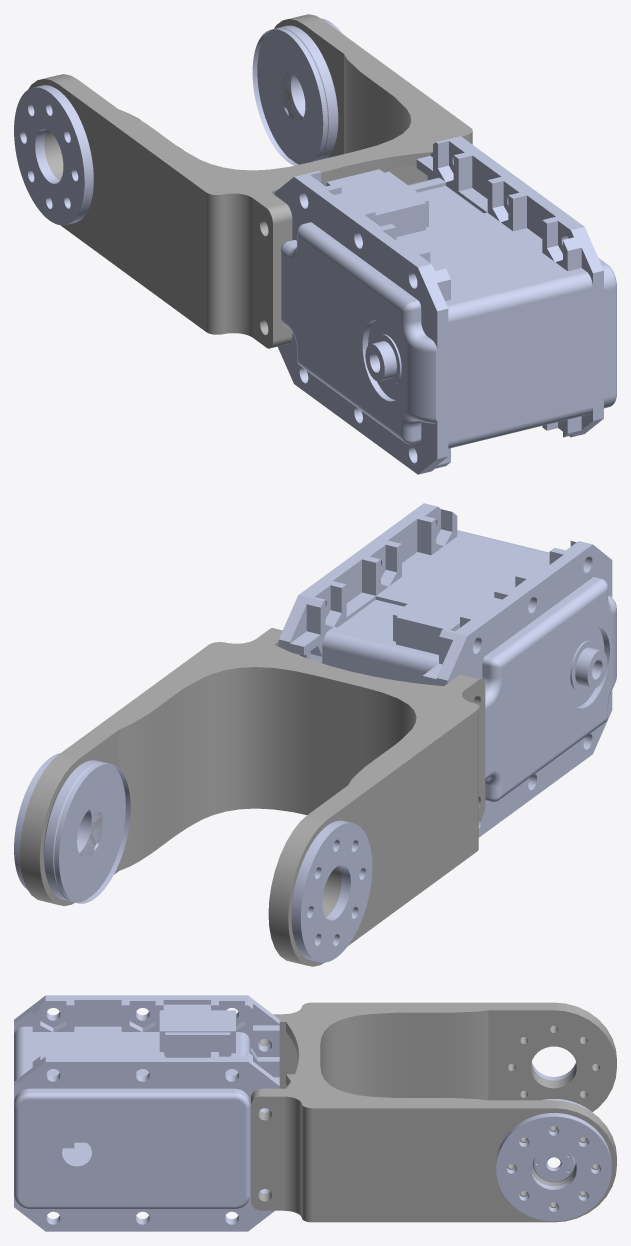
3 renders of one model, top to bottom at view 1: azimuth 30°, elevation 25°; view 2: azimuth 150°, elevation 25°; view 3: azimuth 270°, elevation 25°, orthographic. The views are drawn at different scales.
Parts seen in each view (by area): view 1: NONE_DC_Shell, Cut_Extrude11_DC_Shell, Boss_Extrude1_DC_Shell; view 2: Cut_Extrude11_DC_Shell, NONE_DC_Shell, Boss_Extrude1_DC_Shell; view 3: Cut_Extrude11_DC_Shell, NONE_DC_Shell, Boss_Extrude1_DC_Shell.
Boxes of the visible parts, x1,y1,x2,y2 form: NONE_DC_Shell: [252, 25, 616, 474]; Cut_Extrude11_DC_Shell: [28, 14, 472, 348]; Boss_Extrude1_DC_Shell: [14, 18, 342, 225]; Cut_Extrude11_DC_Shell: [20, 628, 485, 966]; NONE_DC_Shell: [43, 503, 616, 903]; Boss_Extrude1_DC_Shell: [14, 753, 372, 962]; Cut_Extrude11_DC_Shell: [251, 1002, 616, 1222]; NONE_DC_Shell: [14, 995, 593, 1231]; Boss_Extrude1_DC_Shell: [496, 1062, 611, 1221].
Size of the model in its own units: 50.9 by 35.6 by 115.
